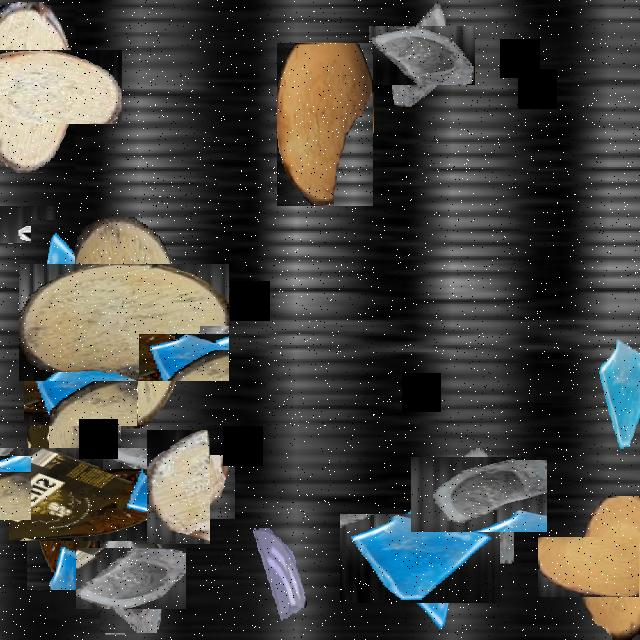glass: (358, 496, 482, 620), (31, 220, 123, 384), (426, 441, 532, 547), (36, 350, 126, 439), (88, 535, 174, 621), (381, 13, 464, 97), (250, 524, 308, 628), (596, 338, 640, 452), (0, 521, 9, 638)
metal: (0, 197, 48, 250)
plastic: (2, 422, 146, 566)
wood: (42, 240, 206, 404), (277, 43, 373, 206), (0, 25, 98, 148), (558, 516, 640, 617), (134, 442, 222, 532)
